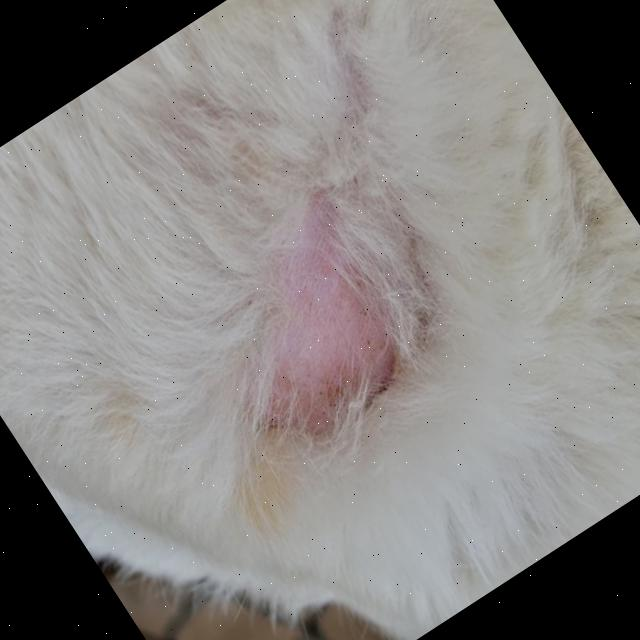cat-hairloss: (185, 186, 442, 454)
